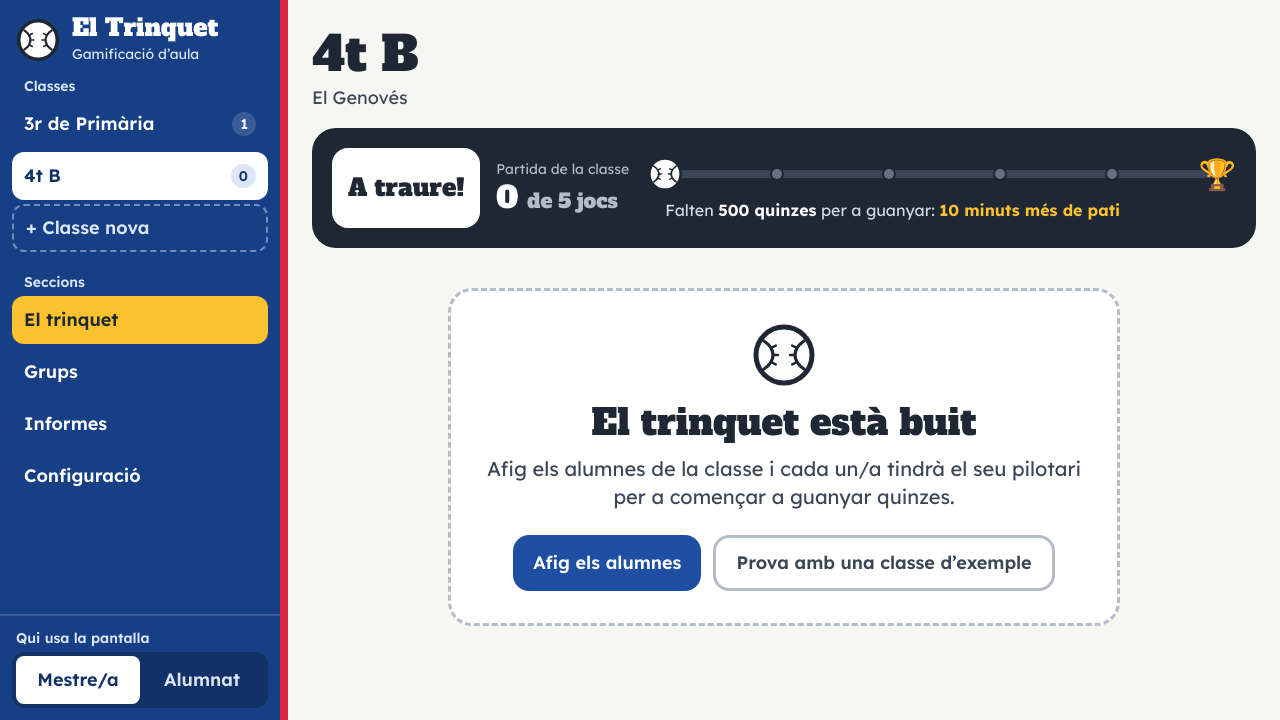
Test: diverses classes › en mode alumnat no es pot canviar de classe ni entrar a les seccions del mestre/a
Click the button "Informes" at (140, 424), box top-left (12, 400), bottom-right (268, 448)
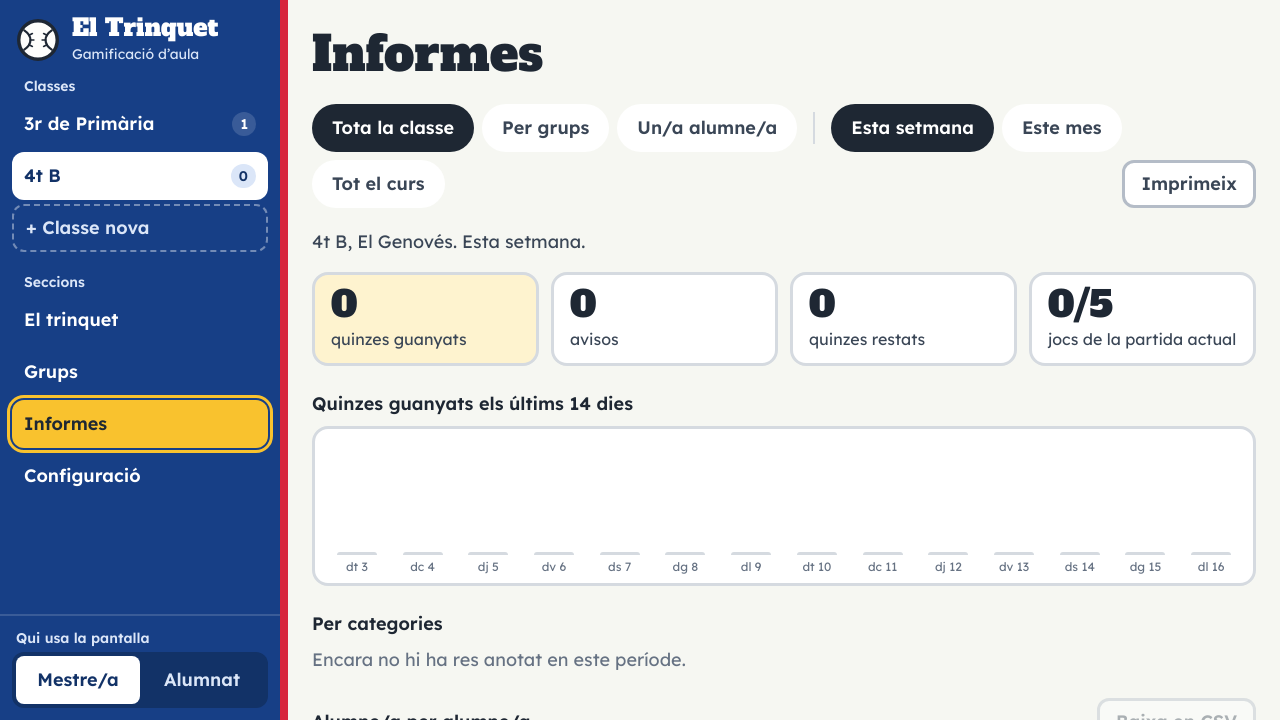
Click the button "Alumnat" at (202, 680), box top-left (140, 656), bottom-right (264, 704)
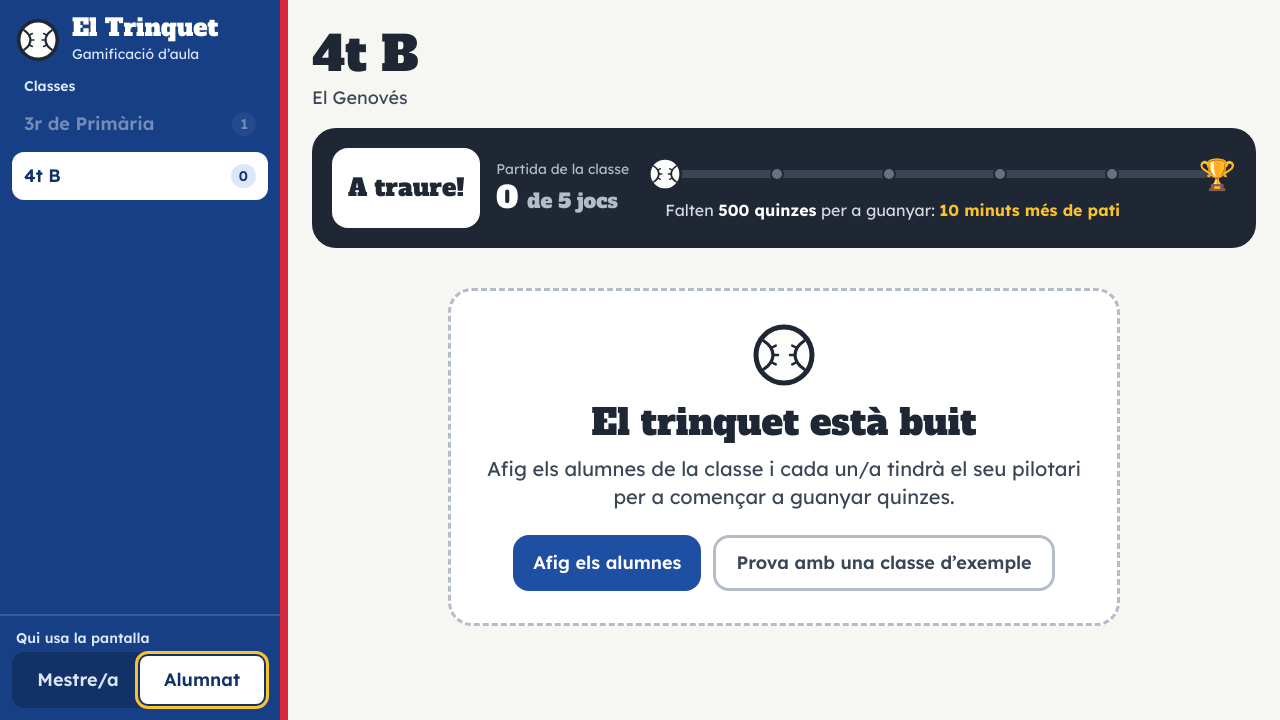
expect the heading "4t B" is shown: met, box top-left (312, 21), bottom-right (419, 87)
expect the heading "Seccions" is gone: met
expect the button "+ Classe nova" is gone: met
